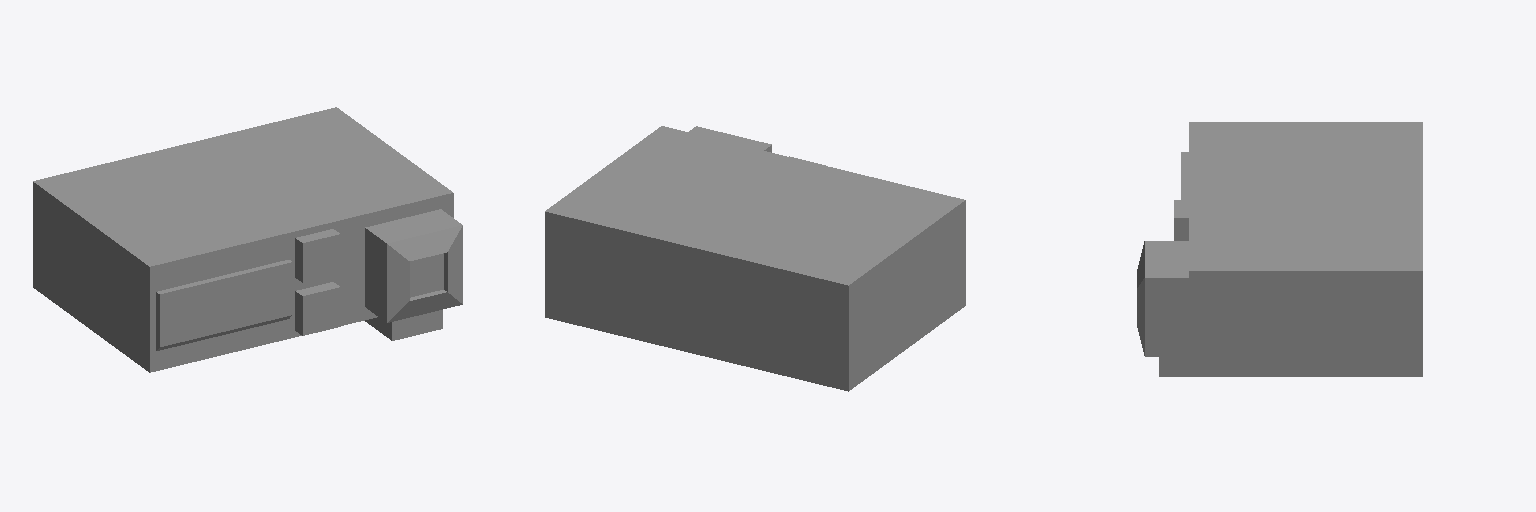
File: radiocb.obj
3 renders of one model, left to right at view 1: azimuth 30°, elevation 25°; view 2: azimuth 150°, elevation 25°; view 3: azimuth 270°, elevation 25°, orthographic.
Parts seen in each view (by area): view 1: cube, thing, tuner, knob3, knob2alt; view 2: cube, thing; view 3: cube, thing, knob2alt.
Boxes of the visible parts, x1,y1,x2,y2 form: cube: [33, 107, 453, 372]; thing: [365, 209, 462, 340]; tuner: [156, 260, 292, 350]; knob3: [295, 282, 340, 335]; knob2alt: [295, 229, 340, 282]; cube: [545, 126, 965, 391]; thing: [689, 126, 771, 152]; cube: [1189, 122, 1422, 376]; thing: [1137, 241, 1188, 376]; knob2alt: [1174, 200, 1188, 240].
Bounding box in the file's own units: 0.375 × 0.1406 × 0.3047.